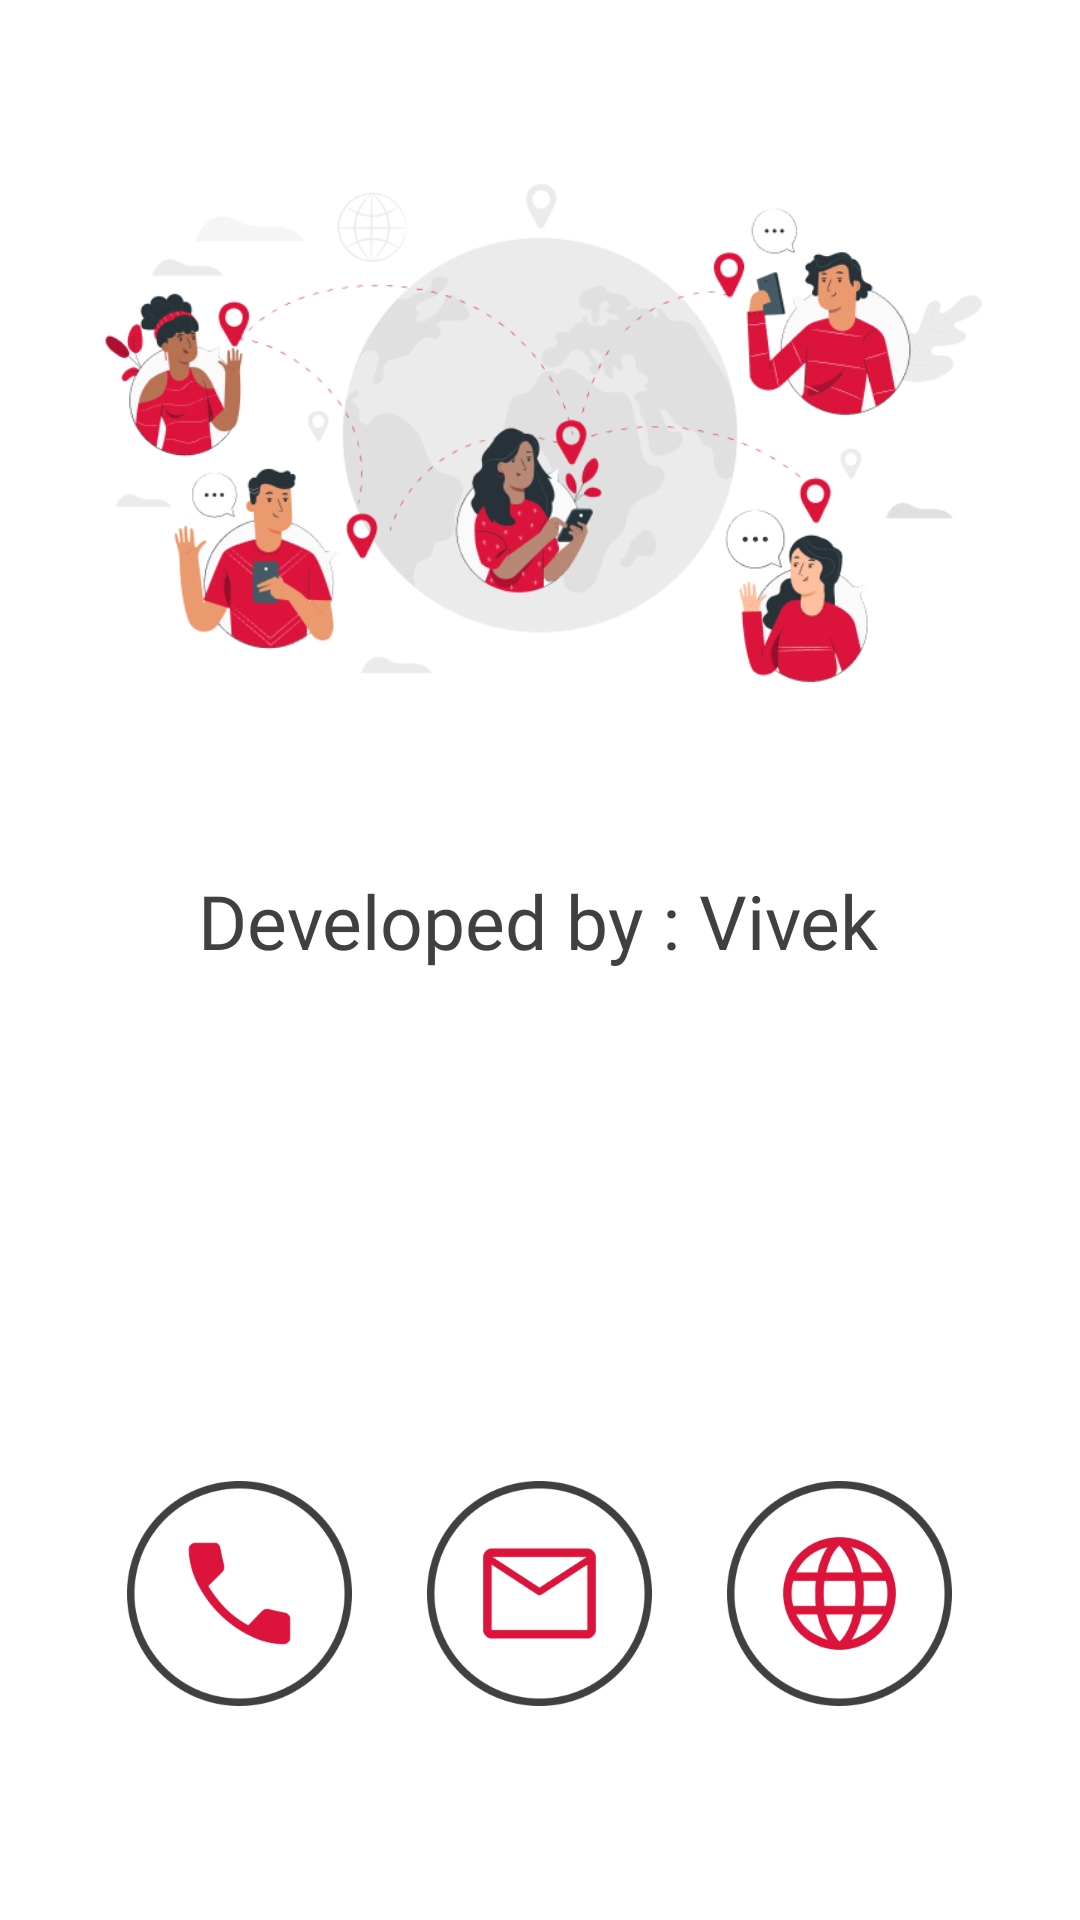

Where to tap for icons on this 1080×1920 app screen, as (x=x, y=y):
call: (x=239, y=1593)
mail: (x=539, y=1593)
website: (x=839, y=1593)
